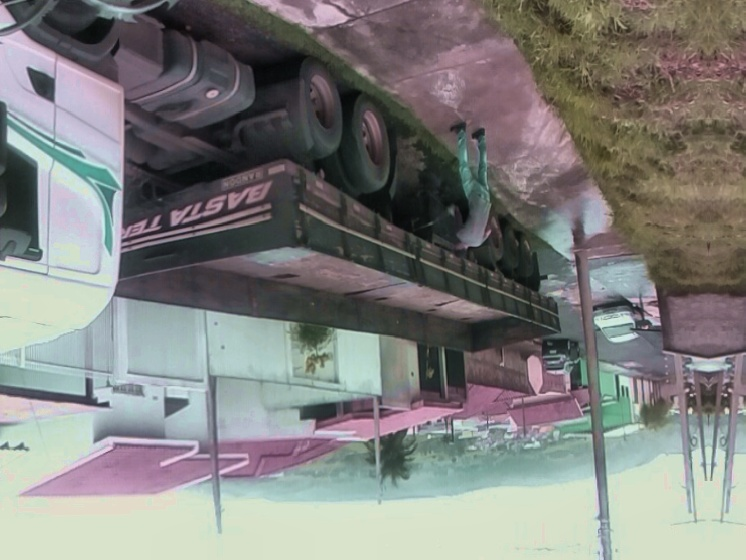person: (439, 120, 494, 256)
